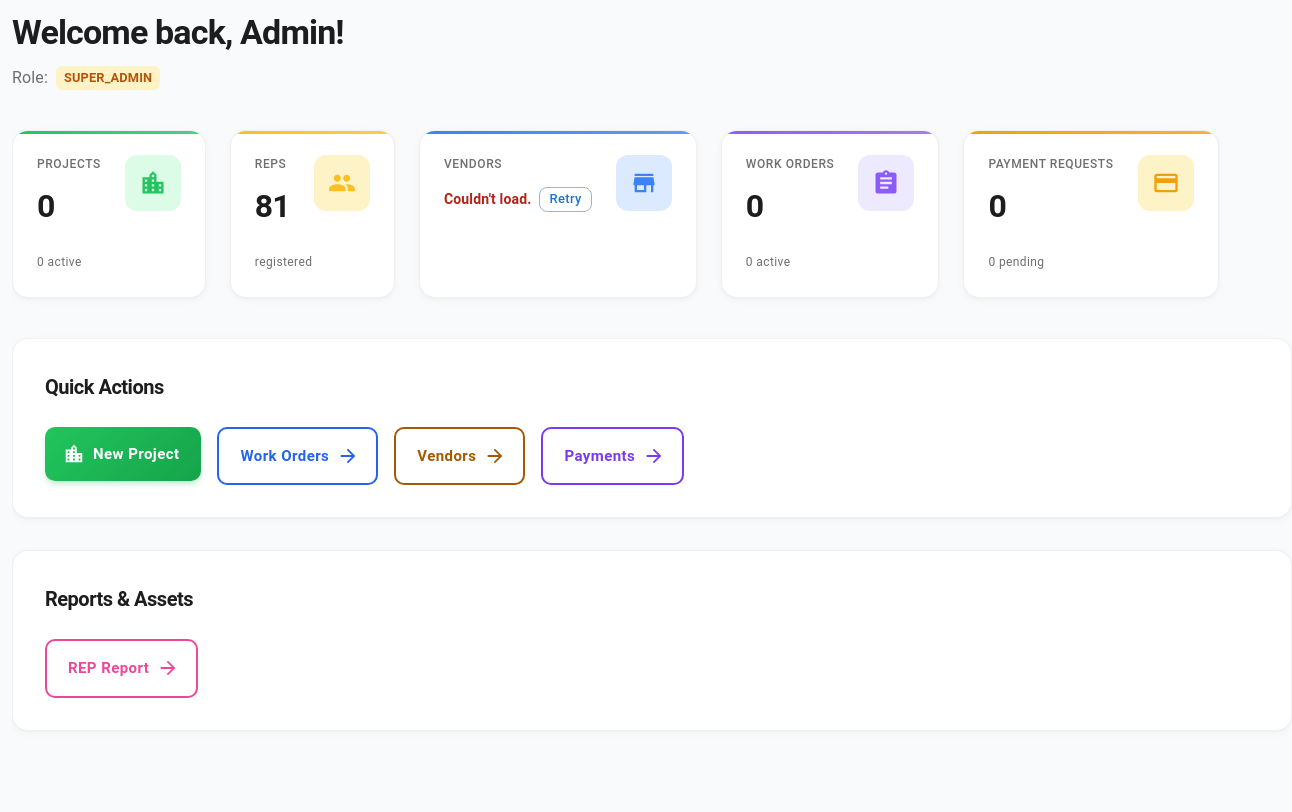
Retry reloads only the failed count and then shows it
Check: the text "Vendors" is shown, box 444,157 -> 502,171
Click the button with aria-label "Retry loading Vendors" at (566, 199), box 540,187 -> 592,212
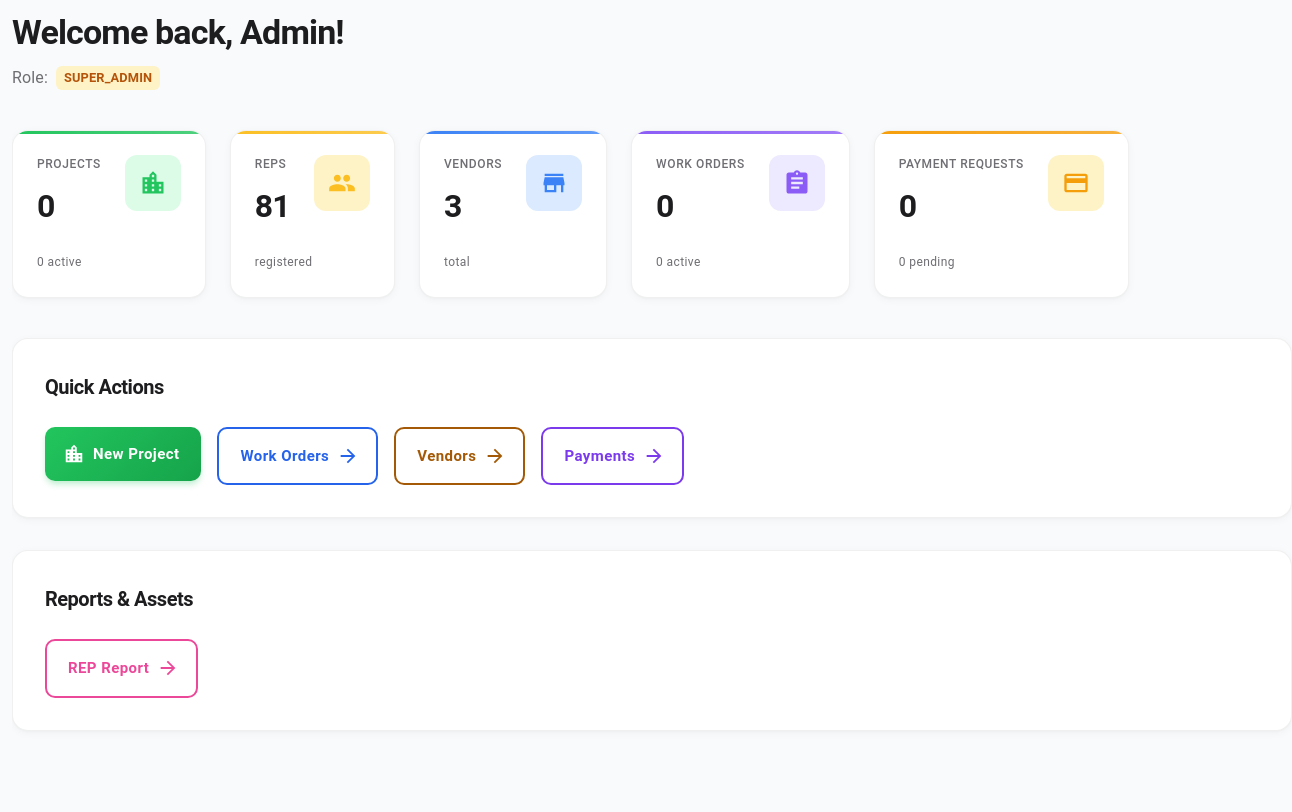
Check: the heading "3" is shown, box 444,187 -> 462,225
Check: the text "Couldn't load." is gone
